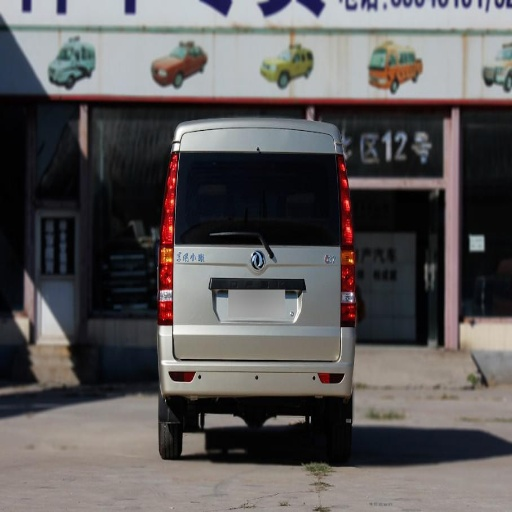back_bumper: (160, 327, 353, 396)
tailgate: (147, 28, 203, 76)
trunk: (170, 223, 341, 360), (194, 33, 264, 65), (109, 33, 165, 65)
